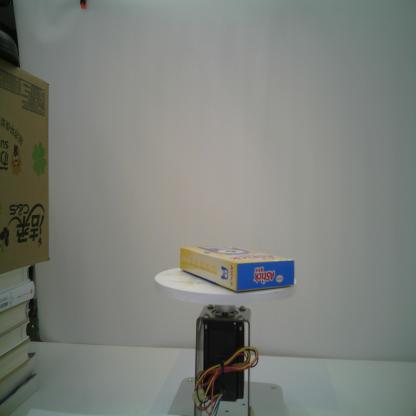Dessert: (180, 245, 294, 292)
